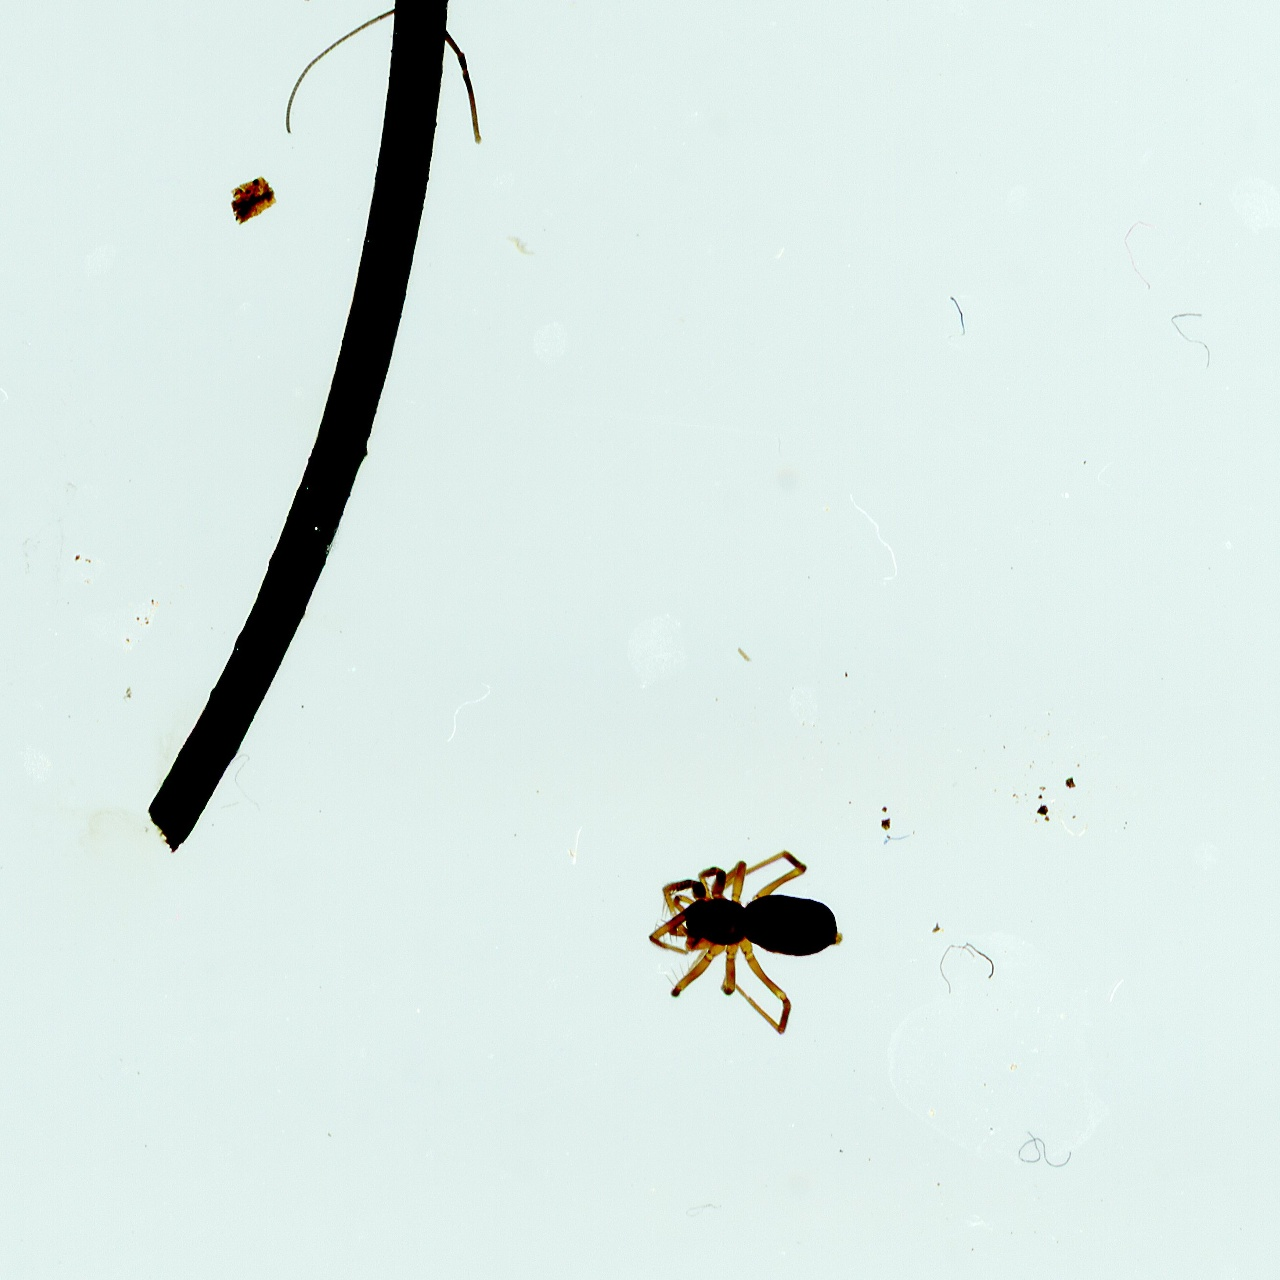arthropod: (631, 805, 856, 1042)
